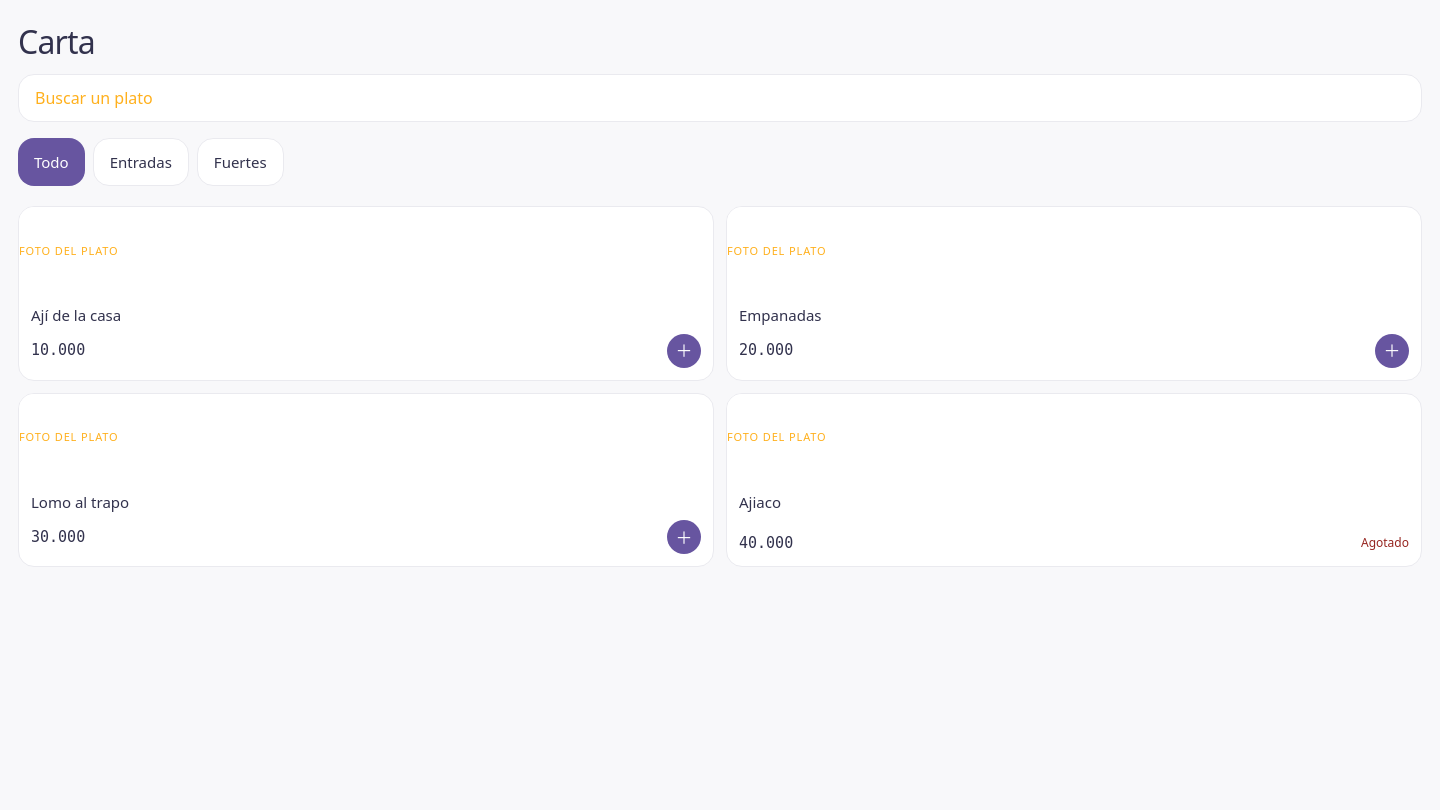
filters dishes by name ignoring accents and case
The image size is (1440, 810).
Type "AJI" into the search field labelled "Buscar un plato". click: x=720, y=98
box: [18,74,1422,122]
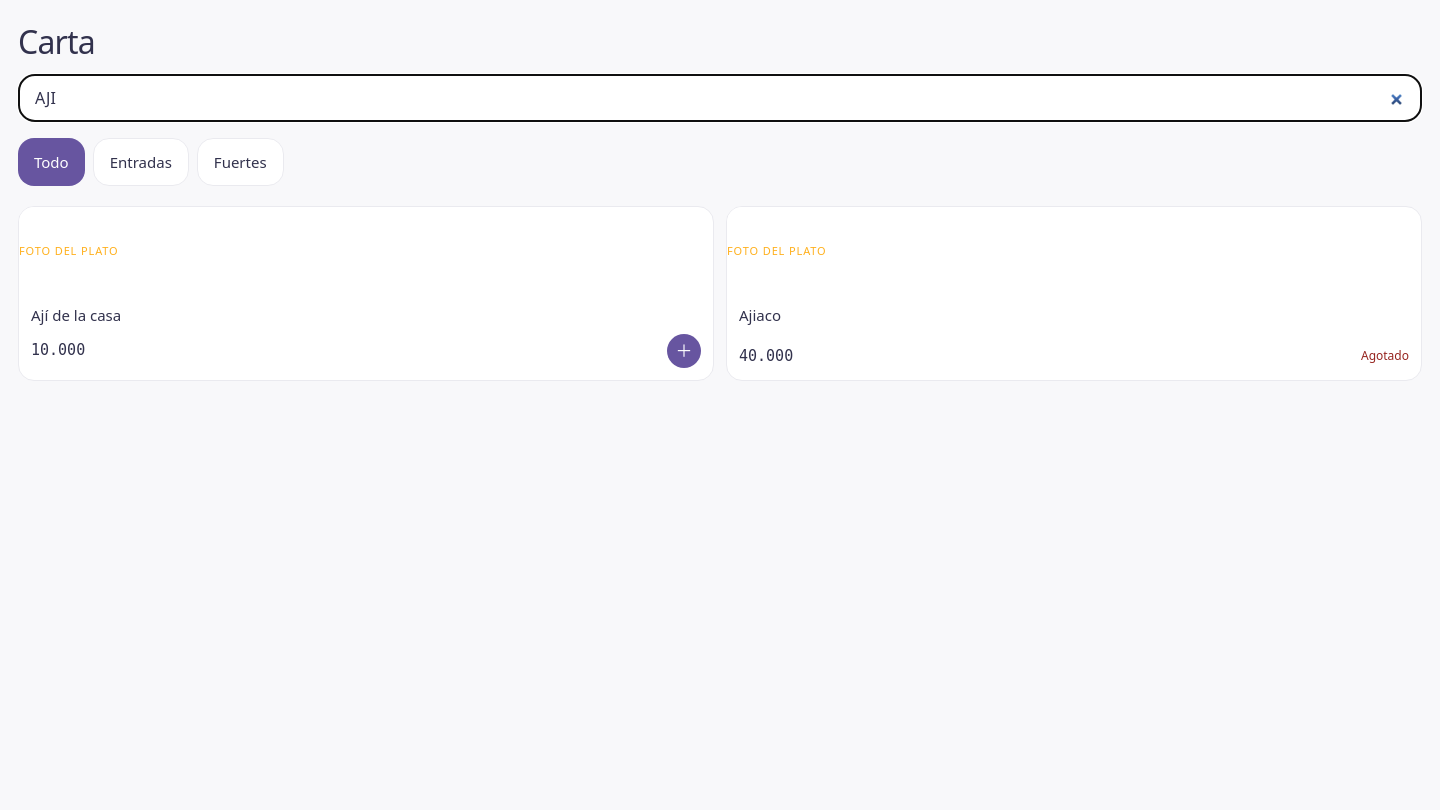
Expected: the text "Ají de la casa" is shown, [31,305,121,326]
Expected: the text "Ajiaco" is shown, [739,305,781,326]
Type "zz" into the search field. click: x=720, y=98
box: [18,74,1422,122]
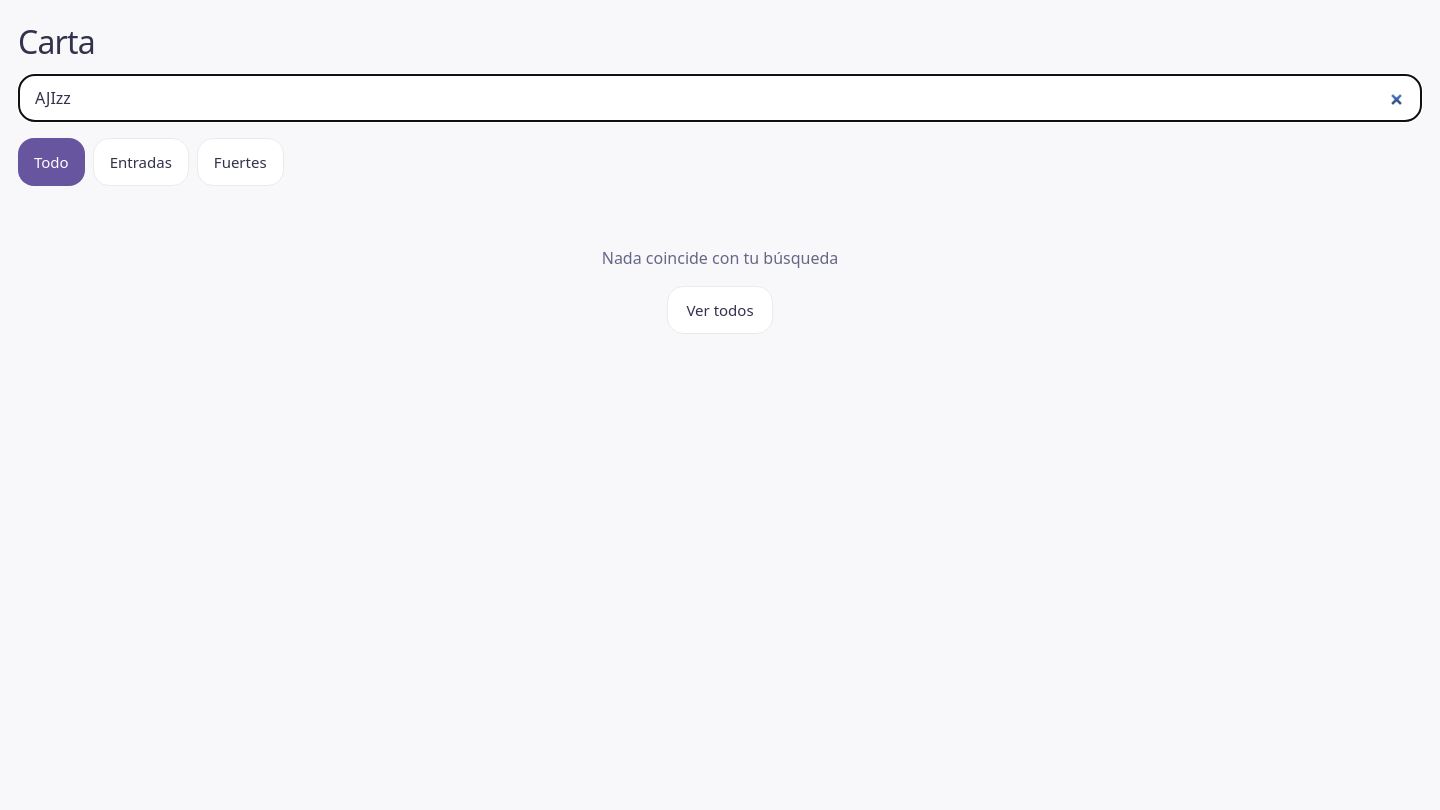
Result: the message reads "Nada coincide con tu búsqueda" at [602,247,838,269]
